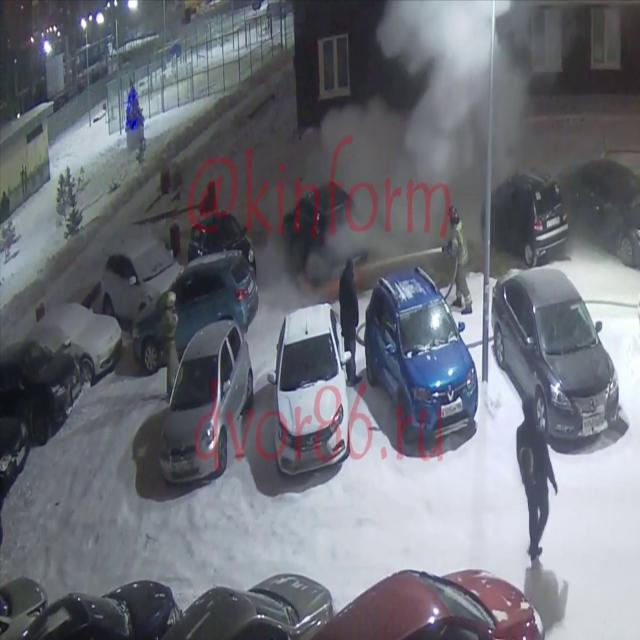Smoke: (369, 0, 579, 209)
